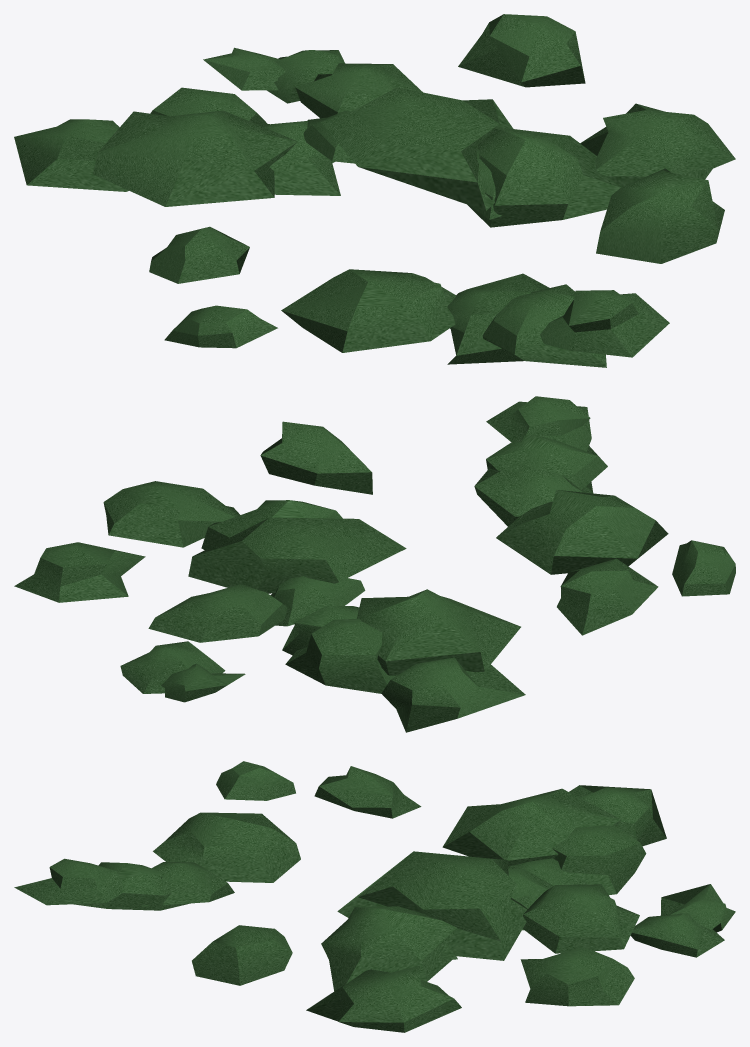
Rendered from brush_mat_0.glb.
The picture shows the model from 3 angles, top to bottom: view 1: azimuth 30°, elevation 25°; view 2: azimuth 150°, elevation 25°; view 3: azimuth 270°, elevation 25°; orthographic projection. The views are drawn at different scales.
Visible parts, largest first — view 1: brush_mat_0; view 2: brush_mat_0; view 3: brush_mat_0.
Boxes of the visible parts, x1,y1,x2,y2 form: brush_mat_0: (14, 14, 735, 367); brush_mat_0: (14, 396, 735, 732); brush_mat_0: (14, 761, 735, 1032).
Size of the model in its own units: 2.91 by 0.4038 by 3.49.
1 material, 1 textured.
